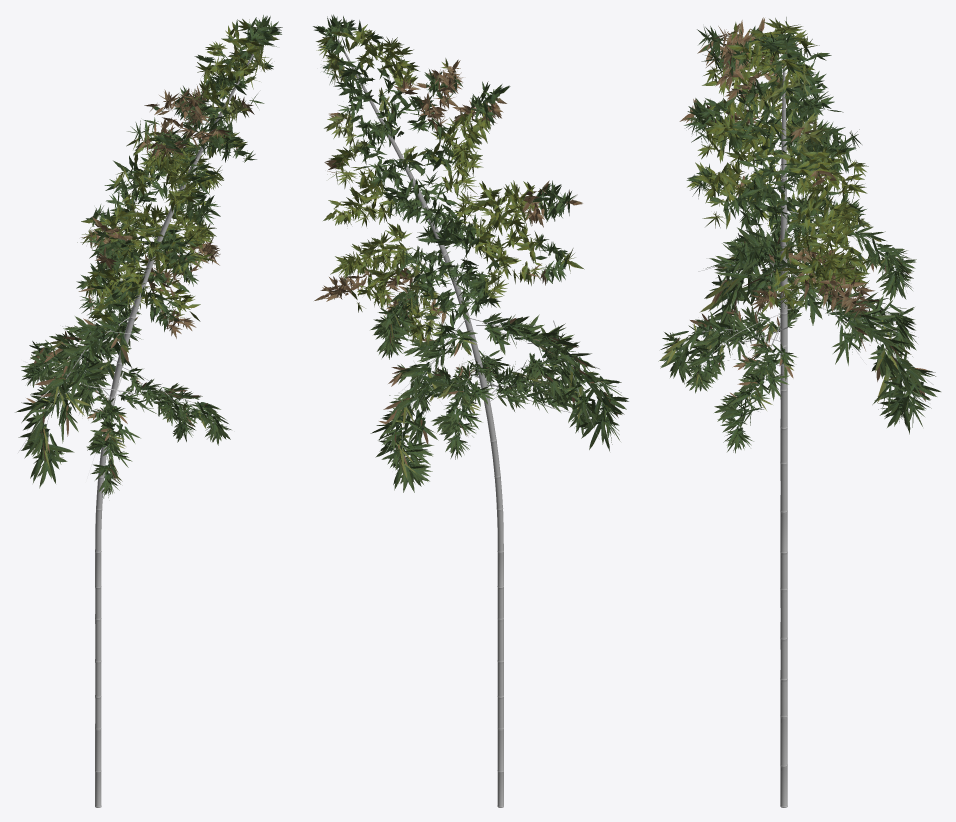
The model's file is MS_Bamboo_a2_lod_1.fbx.
3 renders of one model, left to right at view 1: azimuth 30°, elevation 25°; view 2: azimuth 150°, elevation 25°; view 3: azimuth 270°, elevation 25°, orthographic. The views are drawn at different scales.
Visible parts, largest first — view 1: polySurface1; view 2: polySurface1; view 3: polySurface1.
Part boxes in pixels (left/top/right/bottom): polySurface1: left=15, top=15, right=282, bottom=807; polySurface1: left=313, top=14, right=628, bottom=807; polySurface1: left=658, top=17, right=940, bottom=807.
Size of the model in its own units: 1727 by 1286 by 4357.
